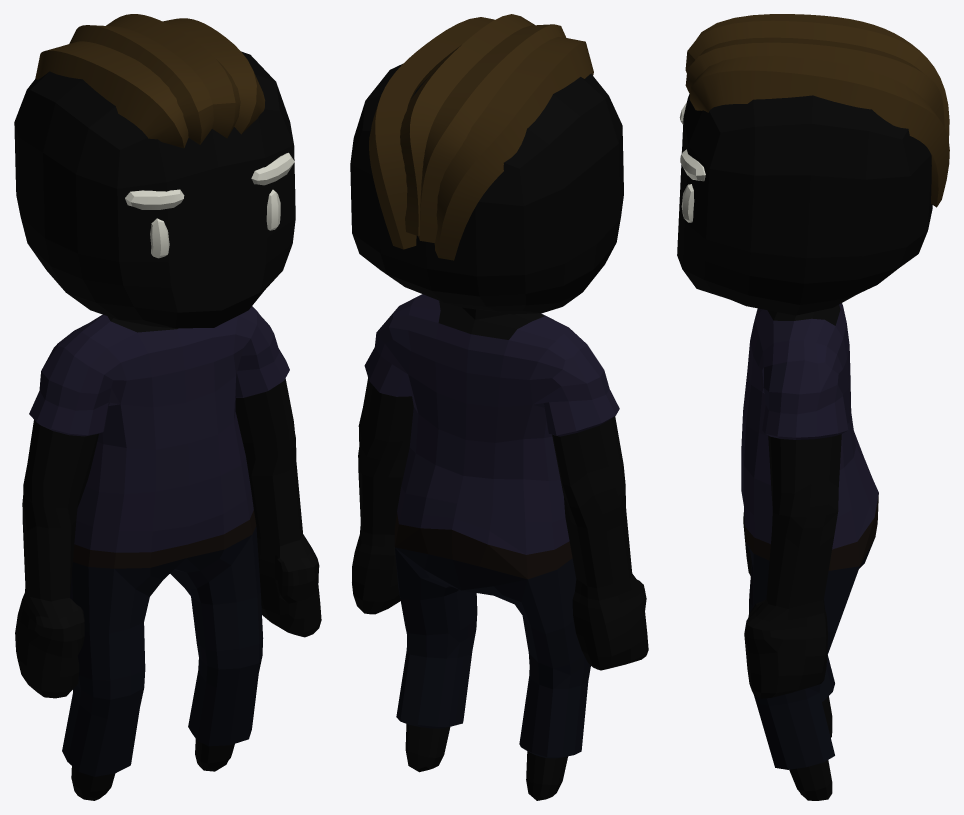
Rendered from Casual2_Male.obj.
The picture shows the model from 3 angles, left to right: view 1: azimuth 30°, elevation 25°; view 2: azimuth 150°, elevation 25°; view 3: azimuth 270°, elevation 25°; orthographic projection. The views are drawn at different scales.
Parts seen in each view (by area): view 1: Body_Cube.004; view 2: Body_Cube.004; view 3: Body_Cube.004.
Boxes of the visible parts, <box> form: Body_Cube.004: <box>14,14,321,800</box>; Body_Cube.004: <box>350,14,648,800</box>; Body_Cube.004: <box>677,14,949,800</box>.
Bounding box in the file's own units: 1.29 × 3.17 × 1.06.
